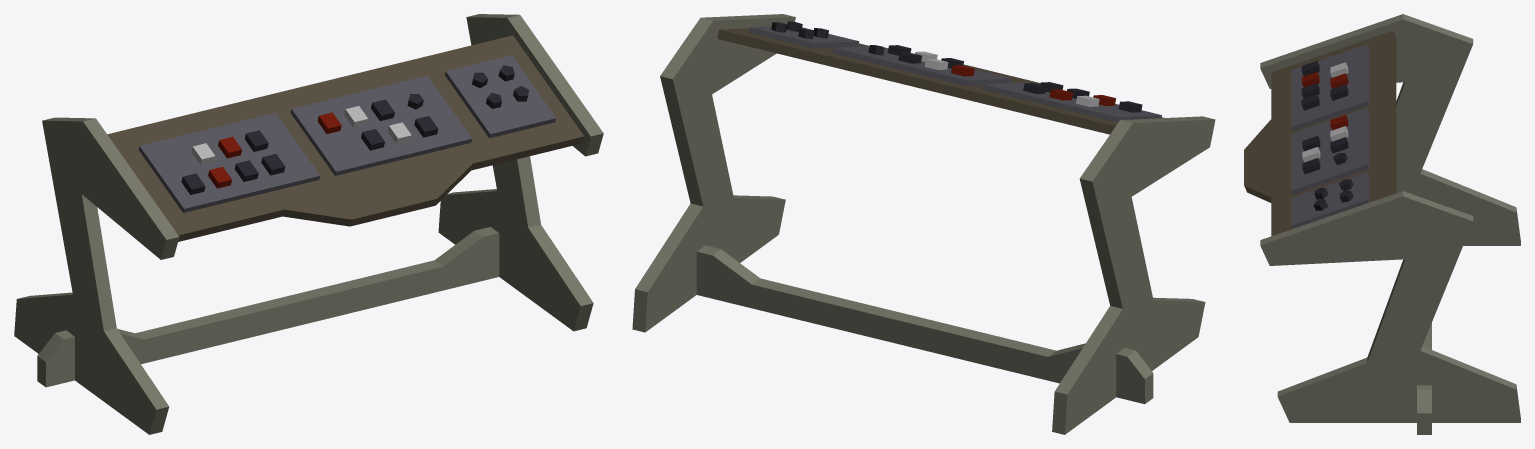
The model's file is LPSciFiCharacter_TerminalB.fbx.
3 renders of one model, left to right at view 1: azimuth 30°, elevation 25°; view 2: azimuth 150°, elevation 25°; view 3: azimuth 270°, elevation 25°, orthographic. The views are drawn at different scales.
Parts seen in each view (by area): view 1: TerminalB; view 2: TerminalB; view 3: TerminalB.
Boxes of the visible parts, <box> form: TerminalB: <box>14,14,603,434</box>; TerminalB: <box>632,14,1215,434</box>; TerminalB: <box>1244,14,1520,434</box>.
Bounding box in the file's own units: 151 × 77.15 × 85.42.
